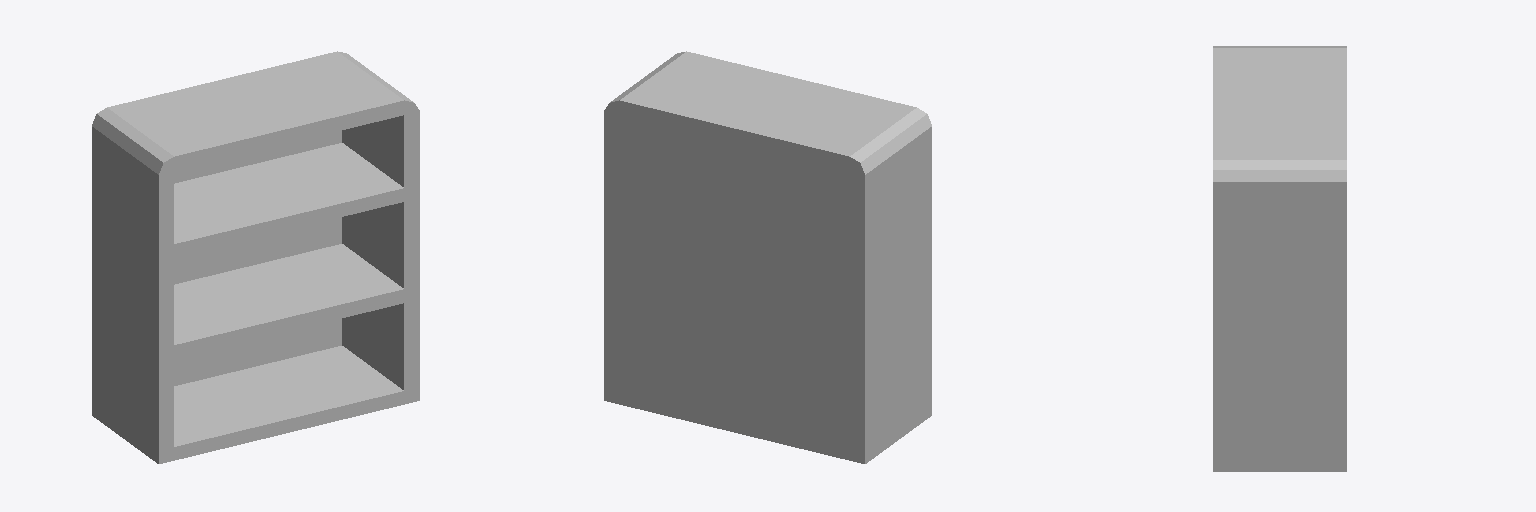
The model's file is Shelf.obj.
3 renders of one model, left to right at view 1: azimuth 30°, elevation 25°; view 2: azimuth 150°, elevation 25°; view 3: azimuth 270°, elevation 25°, orthographic.
Parts seen in each view (by area): view 1: Cube_Cube.001; view 2: Cube_Cube.001; view 3: Cube_Cube.001.
Part boxes in pixels (x1,y1,x2,y2): Cube_Cube.001: (92, 51, 419, 463); Cube_Cube.001: (604, 51, 931, 463); Cube_Cube.001: (1213, 46, 1346, 471).
Bounding box in the file's own units: 1.8 × 2 × 0.8.